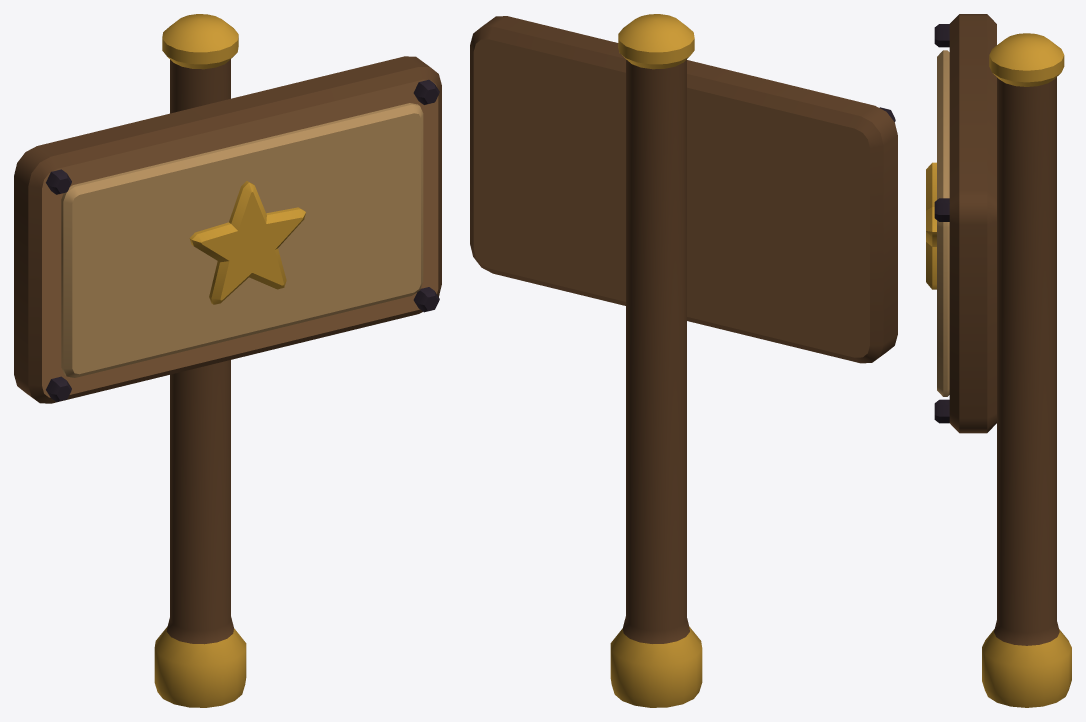
Rendered from Sign_21.glb.
3 renders of one model, left to right at view 1: azimuth 30°, elevation 25°; view 2: azimuth 150°, elevation 25°; view 3: azimuth 270°, elevation 25°, orthographic. The views are drawn at different scales.
Parts seen in each view (by area): view 1: Sign_21; view 2: Sign_21; view 3: Sign_21.
Part boxes in pixels (box(x1,y1,x2,y2)): Sign_21: box(14, 14, 441, 707); Sign_21: box(470, 14, 897, 707); Sign_21: box(926, 14, 1071, 707).
Size of the model in its own units: 2.17 by 3.35 by 0.68.
